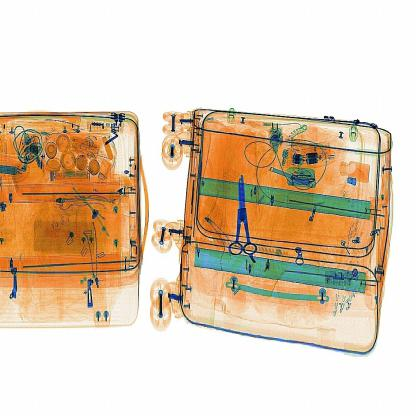gun: (218, 167, 268, 264)
